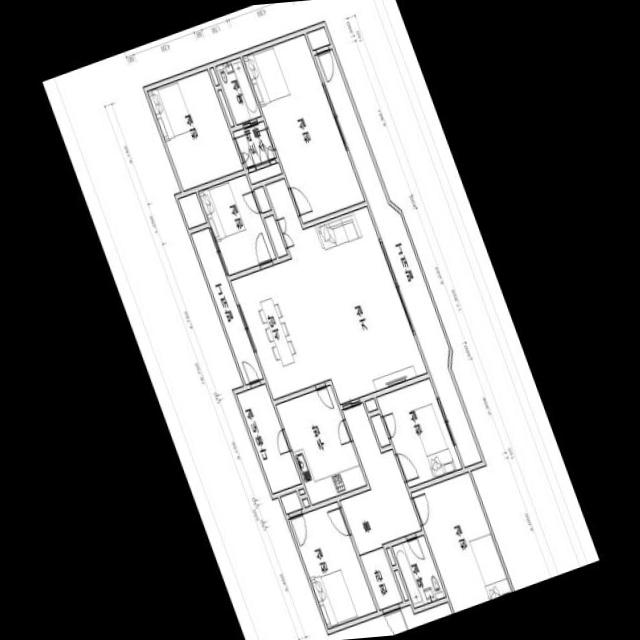background: (41, 0, 599, 640)
space_balconi: (314, 48, 481, 465), (190, 227, 262, 383)
space_bedroom: (242, 33, 364, 221), (410, 471, 511, 612), (146, 68, 242, 189), (288, 501, 376, 627), (375, 377, 461, 486), (197, 173, 275, 274), (279, 490, 301, 512), (253, 185, 270, 211)
space_dressroom: (232, 120, 275, 167), (247, 161, 281, 182)
space_front: (359, 546, 401, 608)
space_kitchen: (230, 259, 330, 398), (275, 384, 365, 503)
space_living_room: (264, 177, 426, 402), (339, 401, 420, 553), (263, 214, 286, 256)
space_other: (236, 383, 300, 492), (178, 191, 205, 227), (370, 413, 389, 445), (217, 89, 233, 125), (306, 26, 329, 48), (394, 569, 407, 599), (385, 546, 394, 564), (209, 66, 218, 84), (364, 397, 376, 410), (302, 497, 308, 506), (298, 487, 304, 493)
space_toilet: (391, 534, 445, 606), (215, 57, 260, 123)
